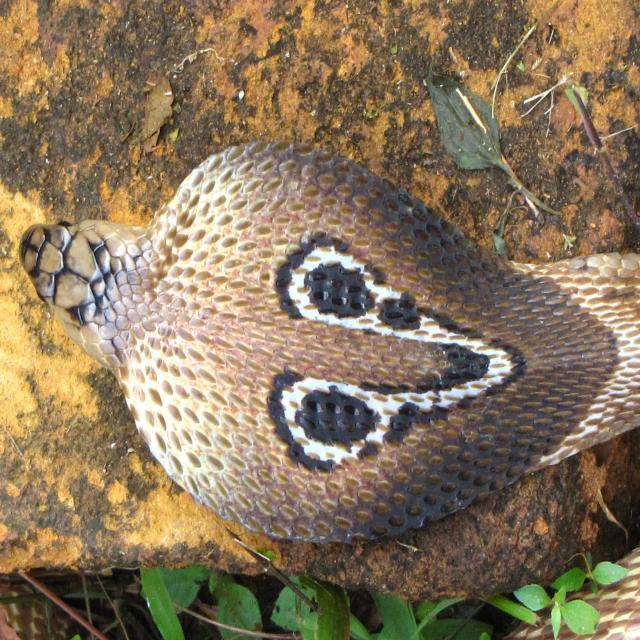Snake: (19, 136, 639, 546)
